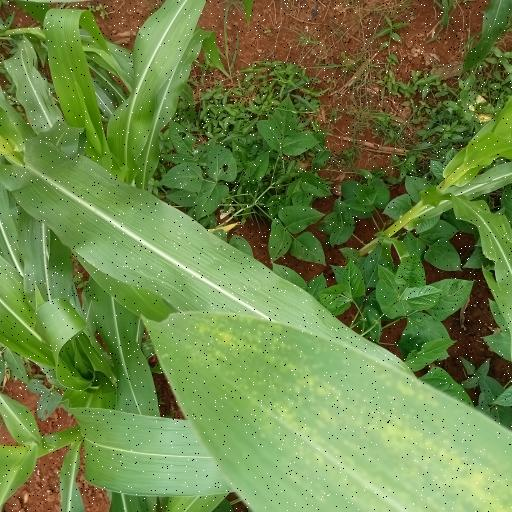Corn_Brown_Spots: (153, 302, 512, 512)
